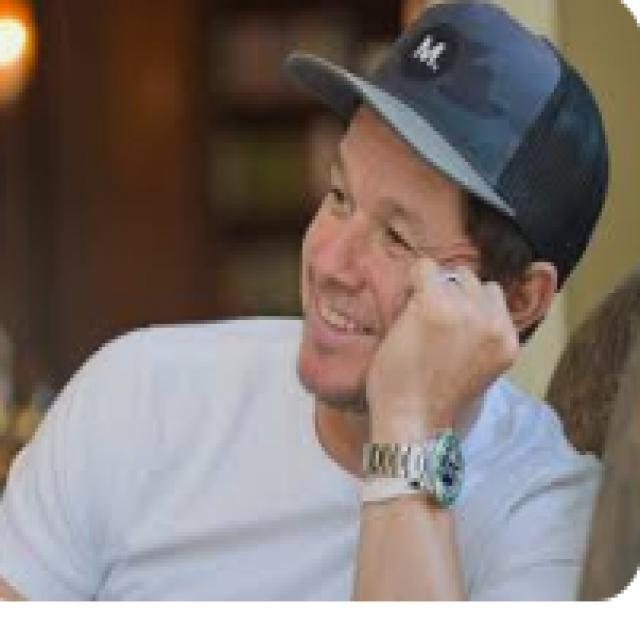Watch: (361, 432, 468, 508)
